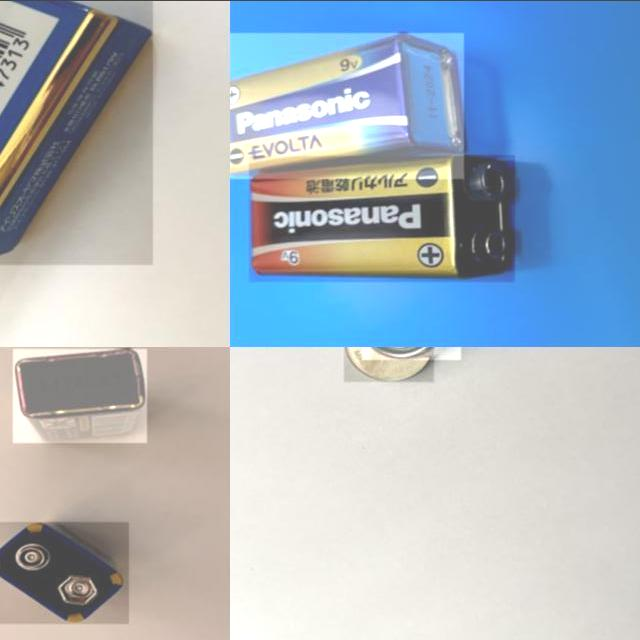9V: (0, 0, 153, 264), (230, 32, 464, 178), (249, 154, 515, 281), (0, 521, 129, 624), (13, 347, 147, 441)
